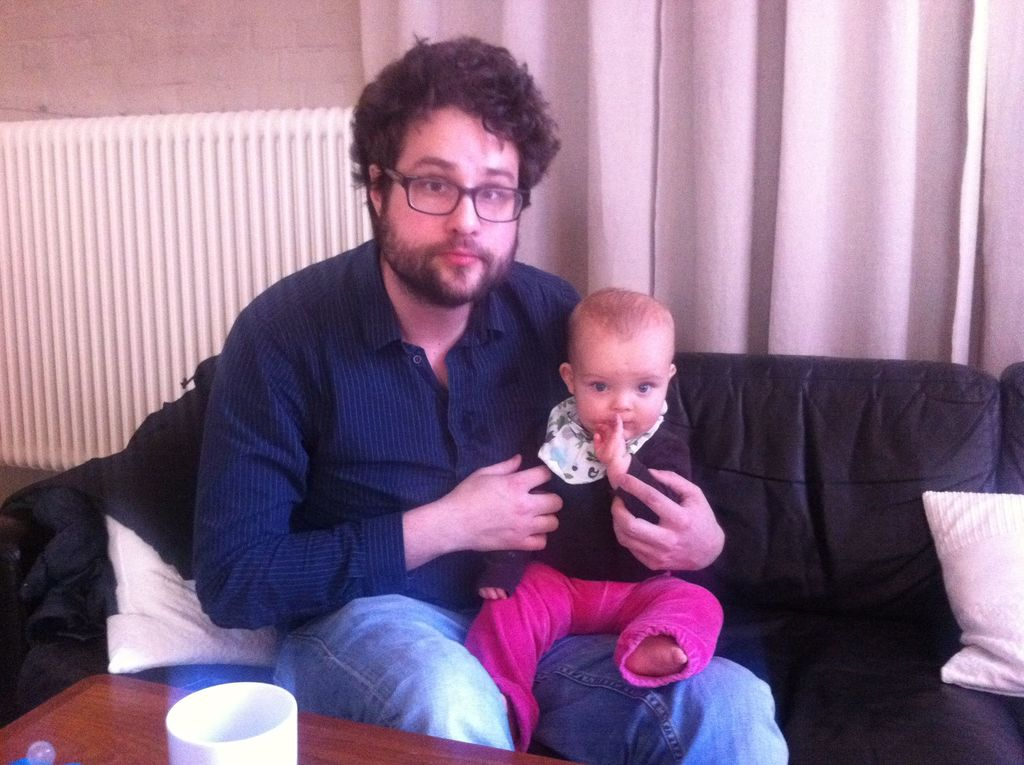Couch: (0, 349, 1023, 764)
